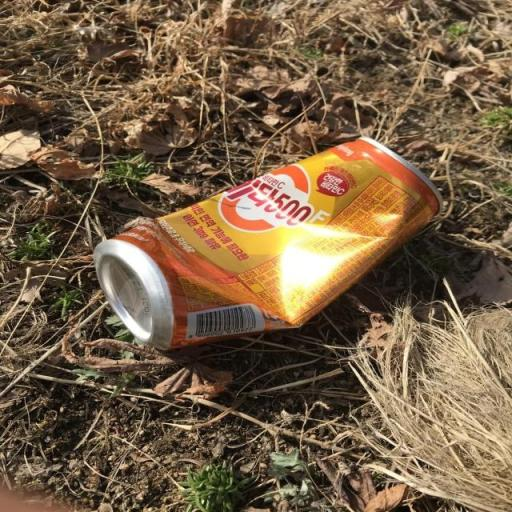metal: (62, 128, 452, 358)
